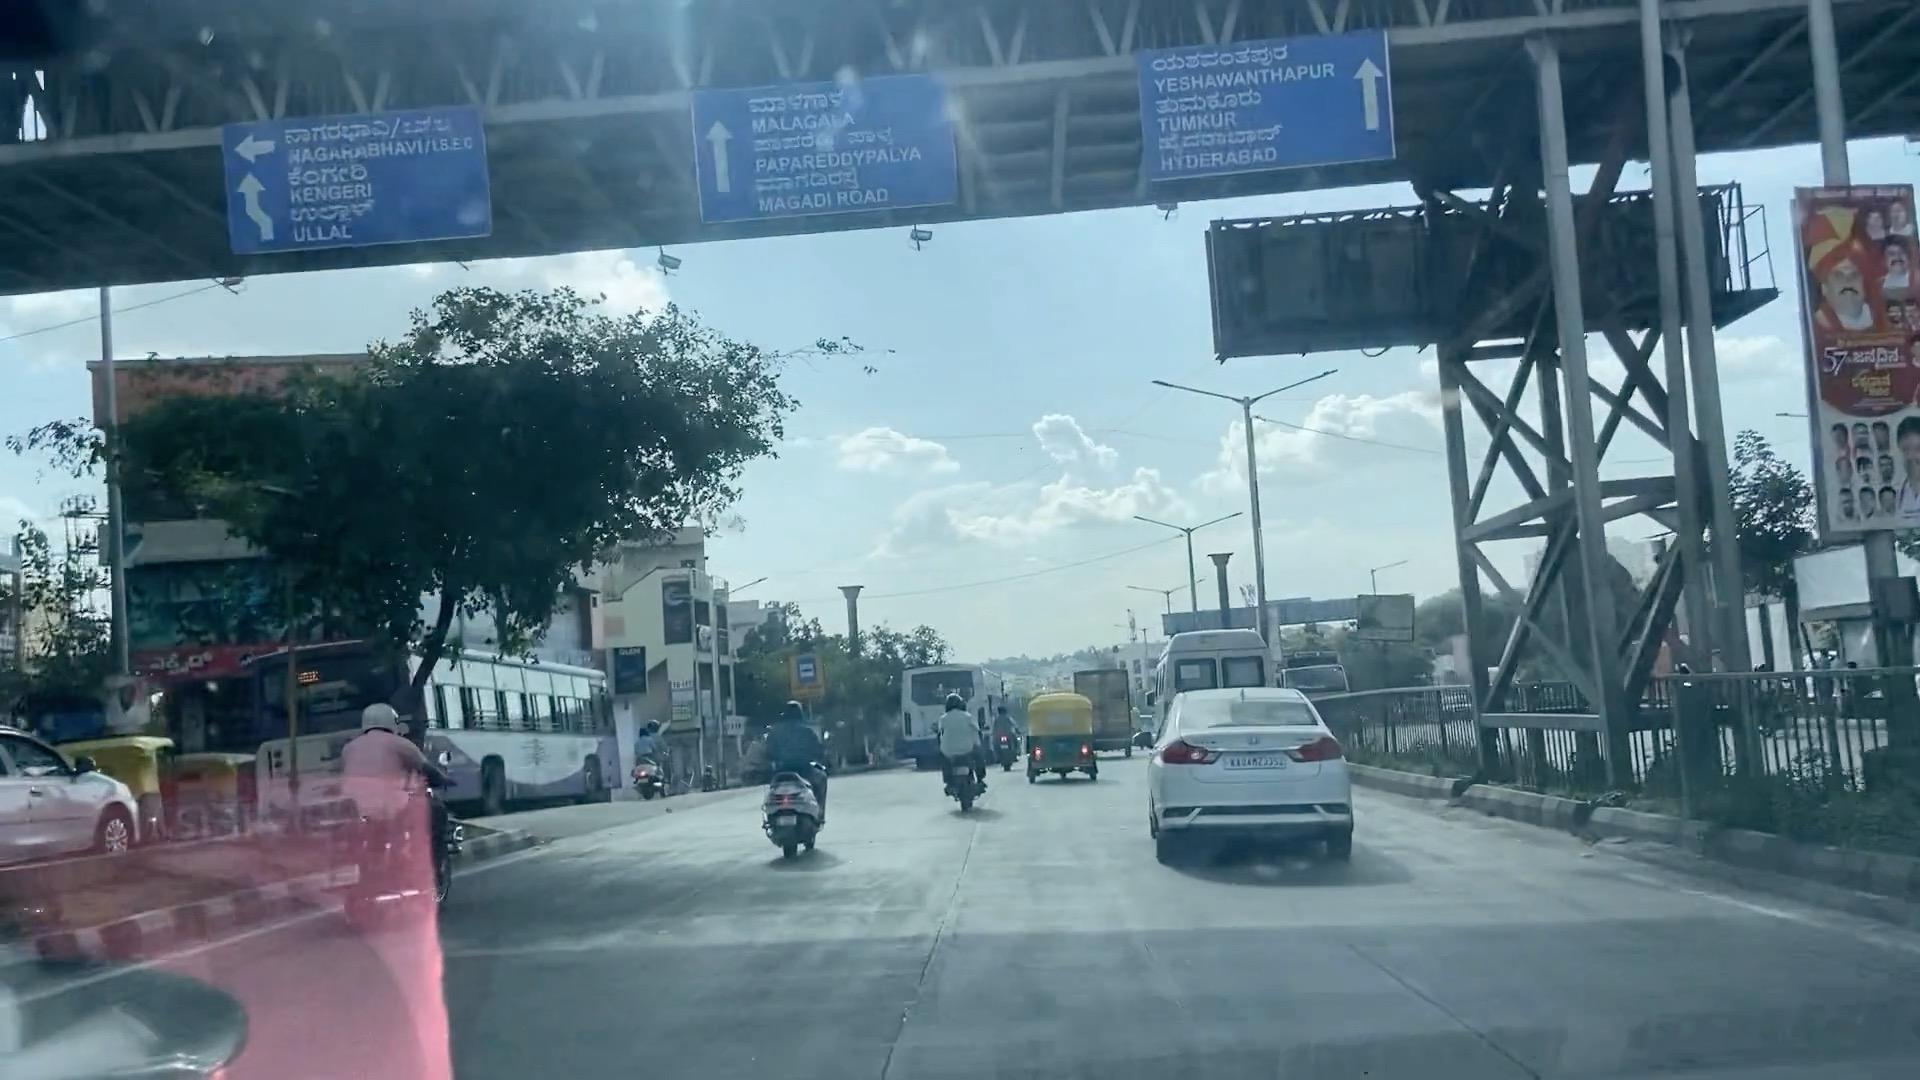LMV: (335, 687, 455, 957), (1163, 705, 1342, 860), (742, 700, 837, 855), (930, 690, 1000, 815), (1018, 703, 1097, 782)
